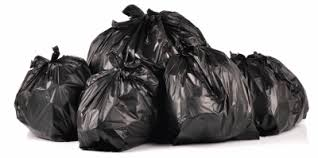Trash: (164, 50, 259, 146), (79, 4, 210, 70), (72, 71, 162, 150), (16, 54, 77, 142)
